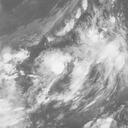cyclone: (32, 47, 87, 105)
